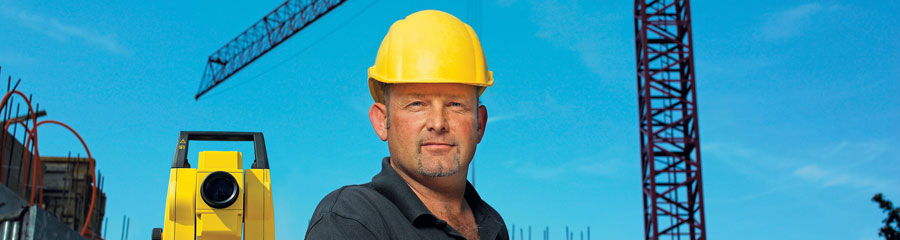hard hat: (367, 9, 493, 92)
